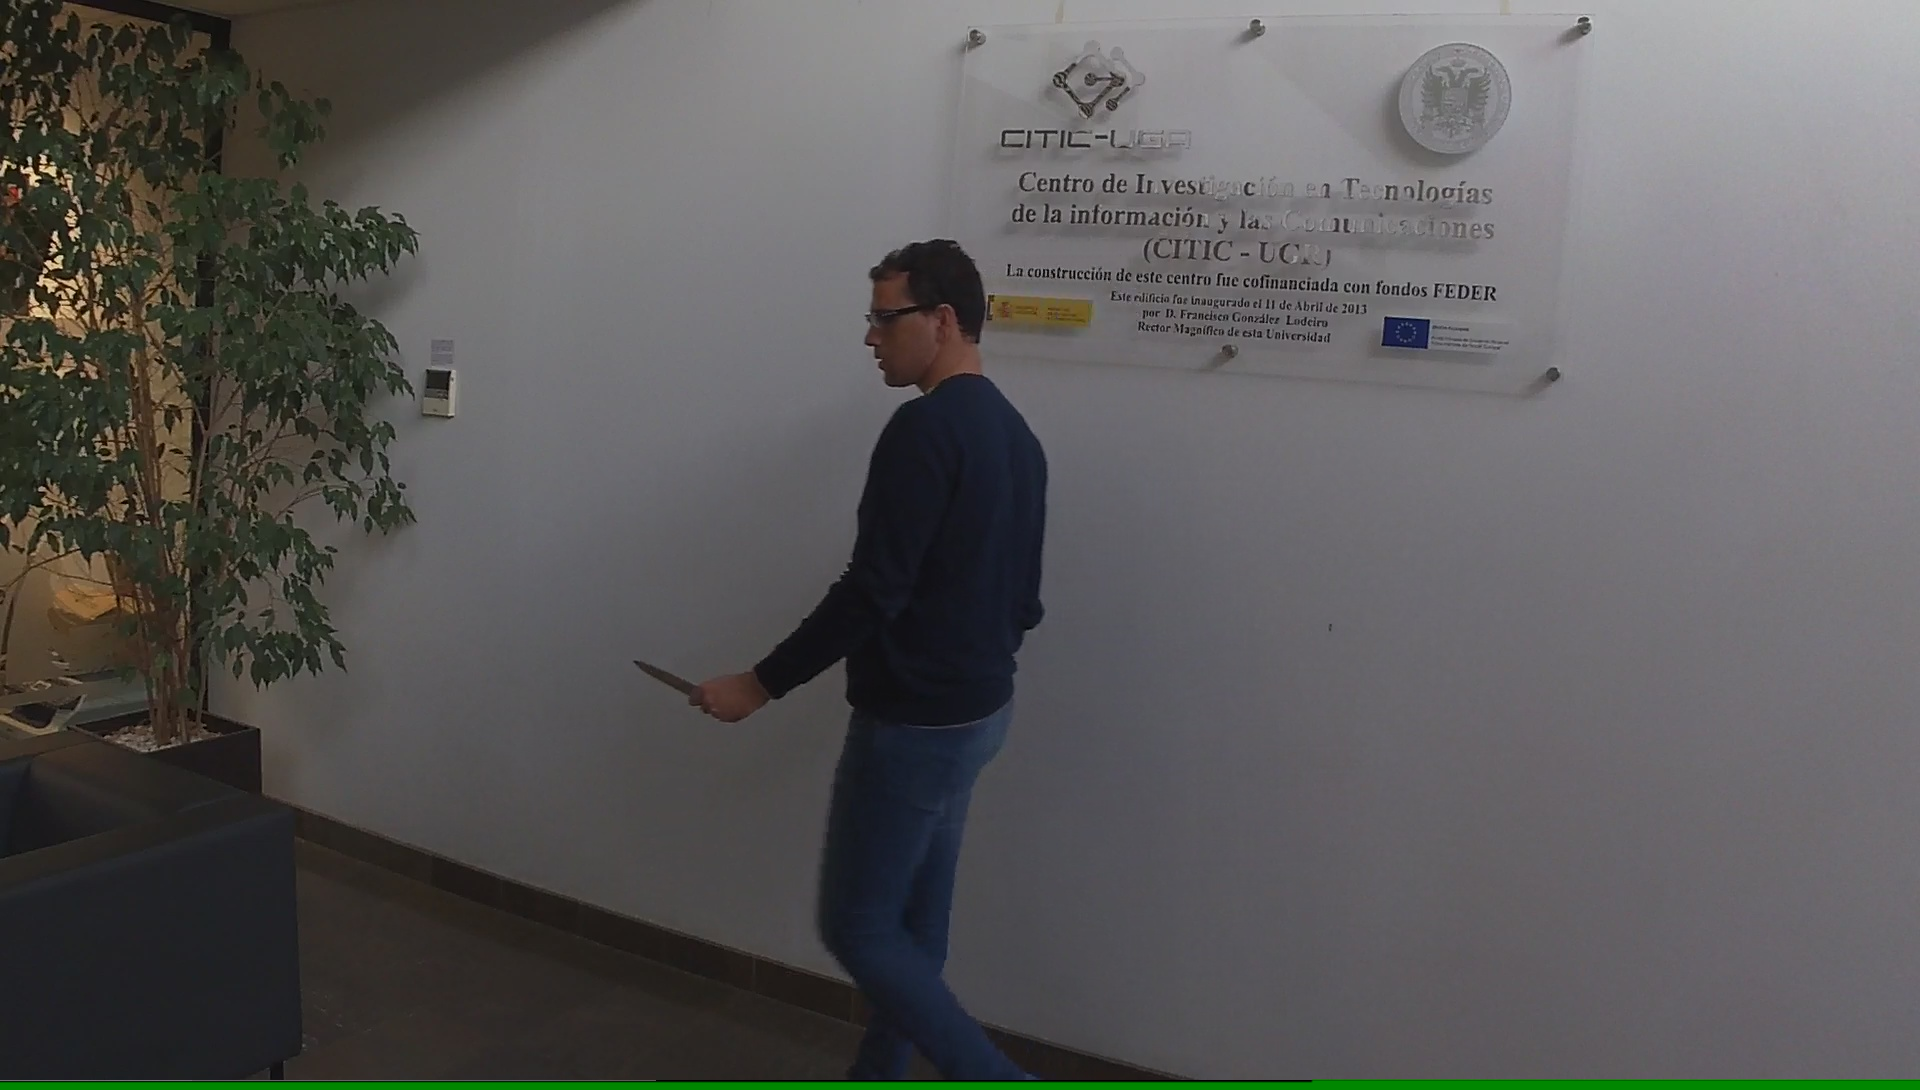knife: (622, 651, 723, 716)
